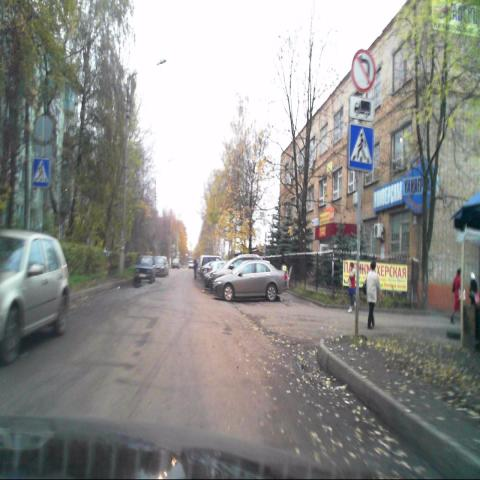3_18_2: (351, 51, 376, 93)
5_19_1: (348, 124, 374, 171), (33, 159, 50, 187)
8_4_1: (348, 97, 374, 122)
